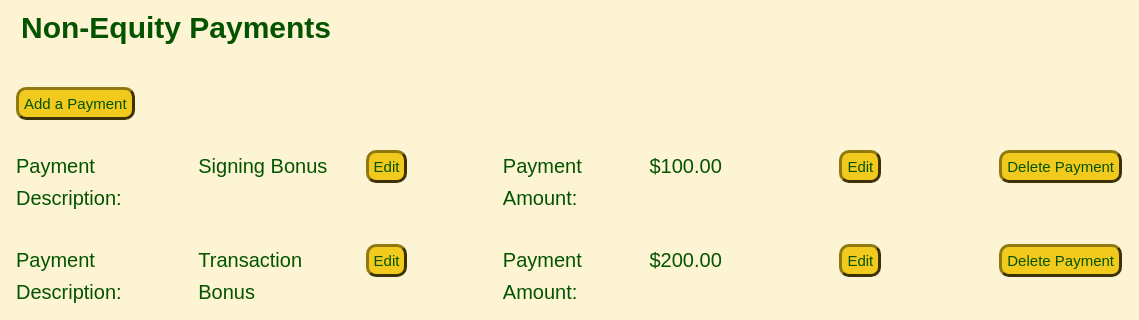
should remove the first payment
Click the button "Delete Payment" in the row of "$100.00".
click(1061, 166)  # box [999,150,1122,183]
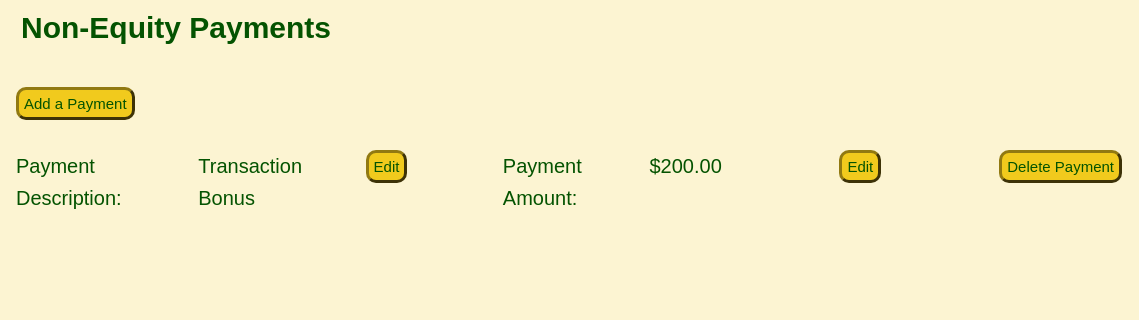
Expected: the heading "Transaction Bonus" is shown, [198,155,302,209]
Expected: the heading "Signing Bonus" is gone
